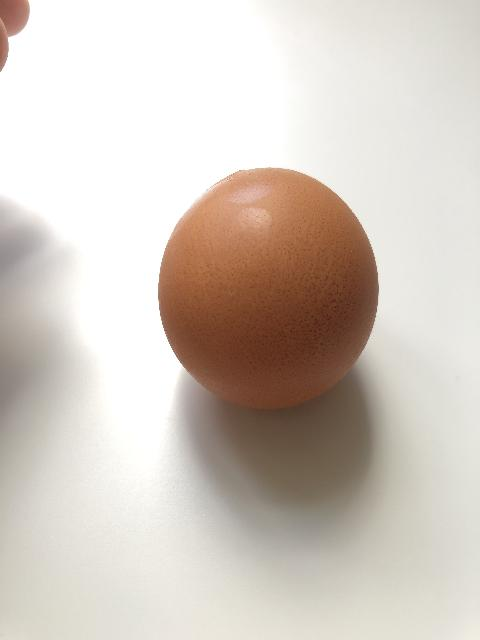Sano: (158, 167, 379, 411)
